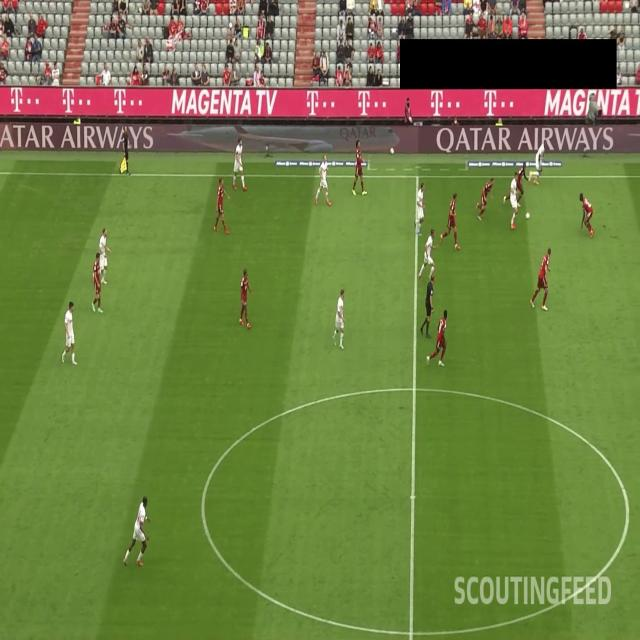ball: (526, 210, 532, 223)
player: (121, 491, 150, 569), (528, 243, 553, 315), (424, 305, 448, 367), (502, 159, 532, 207), (439, 190, 462, 252), (60, 295, 79, 366), (212, 173, 230, 236), (314, 152, 334, 208), (417, 229, 436, 286), (530, 137, 550, 188), (412, 179, 428, 239), (476, 173, 496, 220), (352, 139, 368, 196), (238, 266, 252, 331), (332, 286, 346, 350), (232, 136, 248, 192), (91, 247, 104, 315), (577, 191, 596, 237), (508, 171, 522, 232), (99, 227, 111, 285)
referee: (419, 272, 436, 341), (118, 124, 132, 177)
